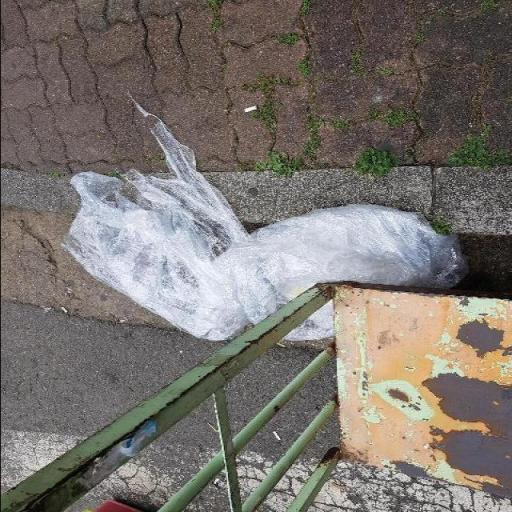plastic-bag: (54, 169, 461, 344)
